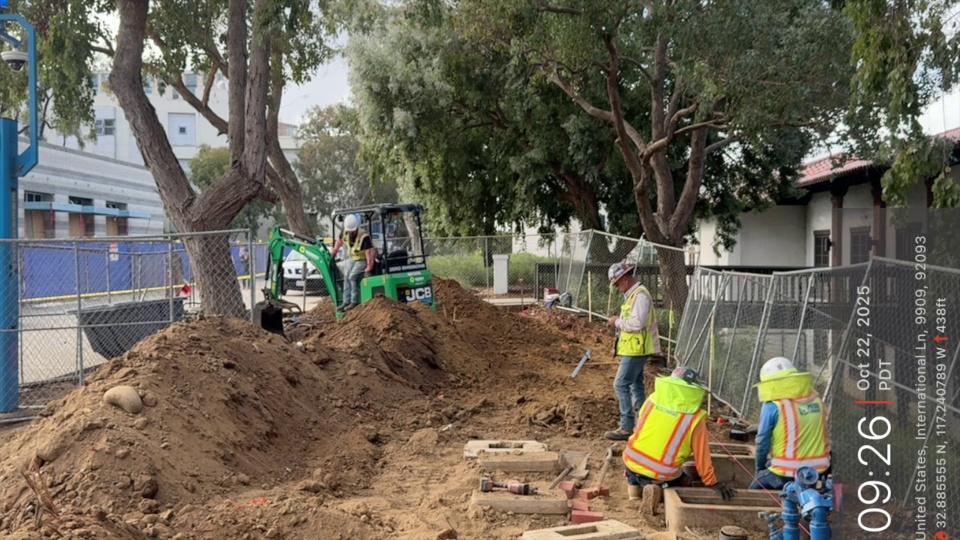Exacavator: (252, 200, 437, 339)
